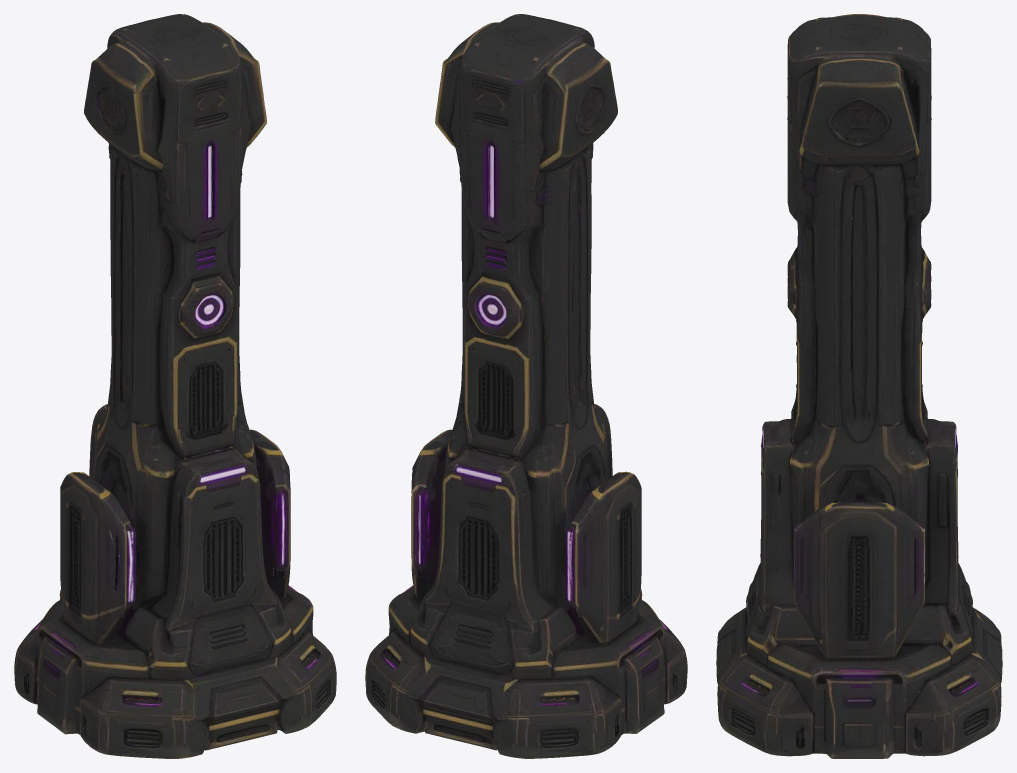
File: eoncity_eonbot_charging_station.8ad81c8b0461.glb
The picture shows the model from 3 angles, left to right: view 1: azimuth 30°, elevation 25°; view 2: azimuth 150°, elevation 25°; view 3: azimuth 270°, elevation 25°; orthographic projection.
Parts seen in each view (by area): view 1: Mesh1.0; view 2: Mesh1.0; view 3: Mesh1.0.
Part boxes in pixels (left/top/right/bottom): Mesh1.0: left=14, top=14, right=336, bottom=758; Mesh1.0: left=365, top=14, right=687, bottom=758; Mesh1.0: left=716, top=14, right=1002, bottom=758.
Size of the model in its own units: 0.7684 by 1.9 by 0.7399.
1 material, 1 textured.
